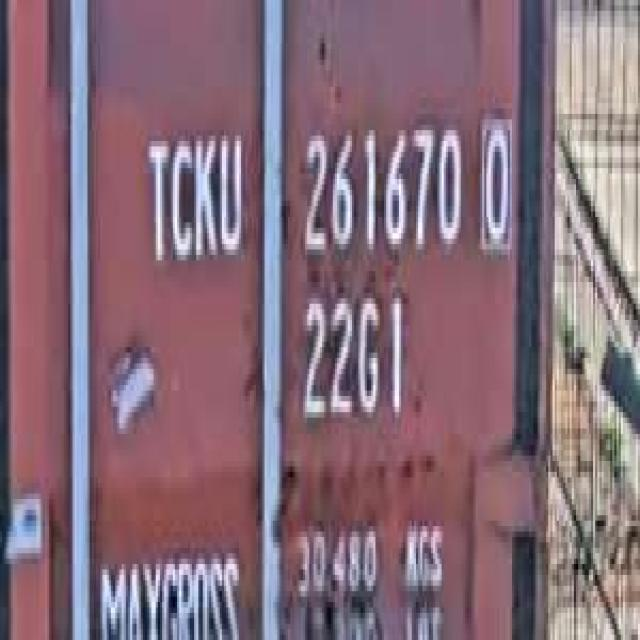dv: (476, 98, 514, 260)
owner: (141, 114, 247, 277)
serial: (294, 103, 465, 266)
size: (296, 277, 409, 434)
